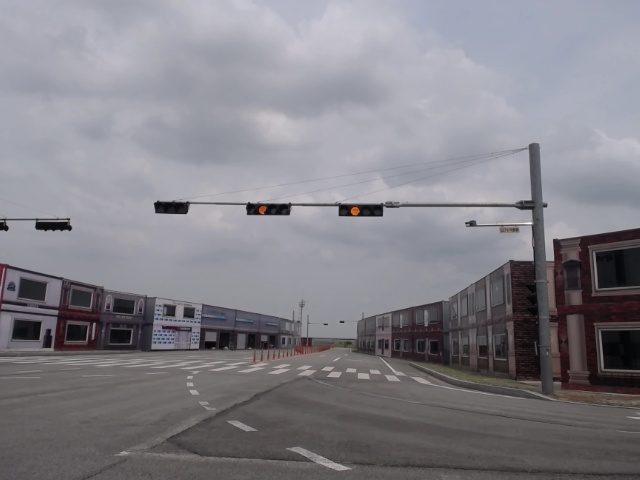orange_4: (337, 203, 385, 218), (246, 202, 291, 215)
